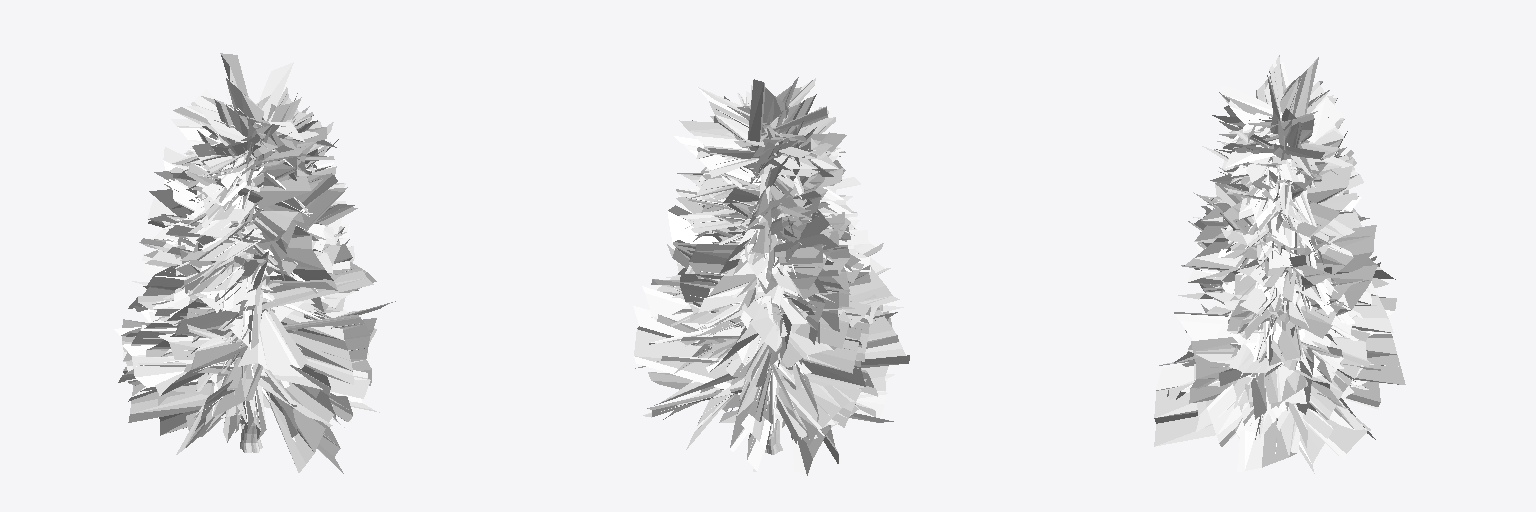
The model's file is PineTree.obj.
The picture shows the model from 3 angles: view 1: azimuth 30°, elevation 25°; view 2: azimuth 150°, elevation 25°; view 3: azimuth 270°, elevation 25°; orthographic projection.
Parts seen in each view (by area): view 1: tree; view 2: tree; view 3: tree.
Boxes of the visible parts, x1,y1,x2,y2 form: tree: [114, 53, 395, 473]; tree: [633, 77, 909, 475]; tree: [1154, 55, 1405, 473].
Size of the model in its own units: 396 by 597 by 355.